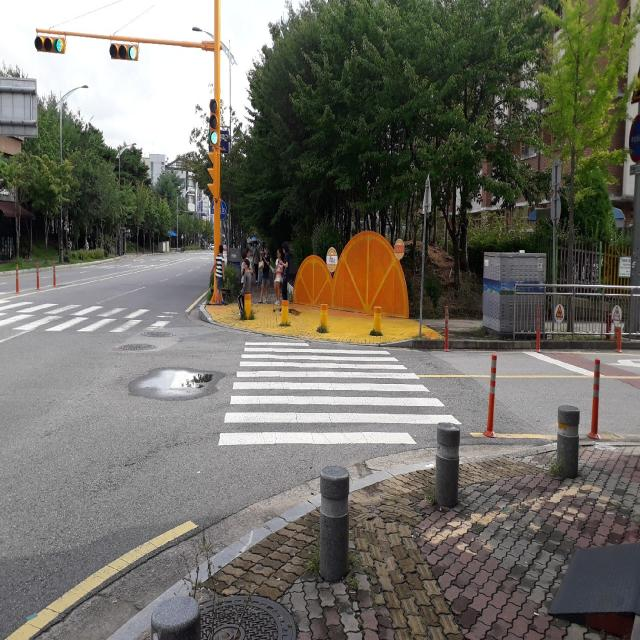횡단보도: (216, 338, 464, 448), (3, 300, 168, 340)
